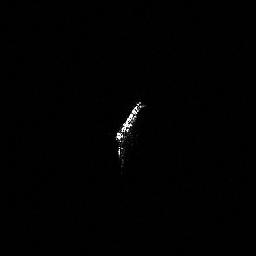ship: (110, 97, 148, 168)
